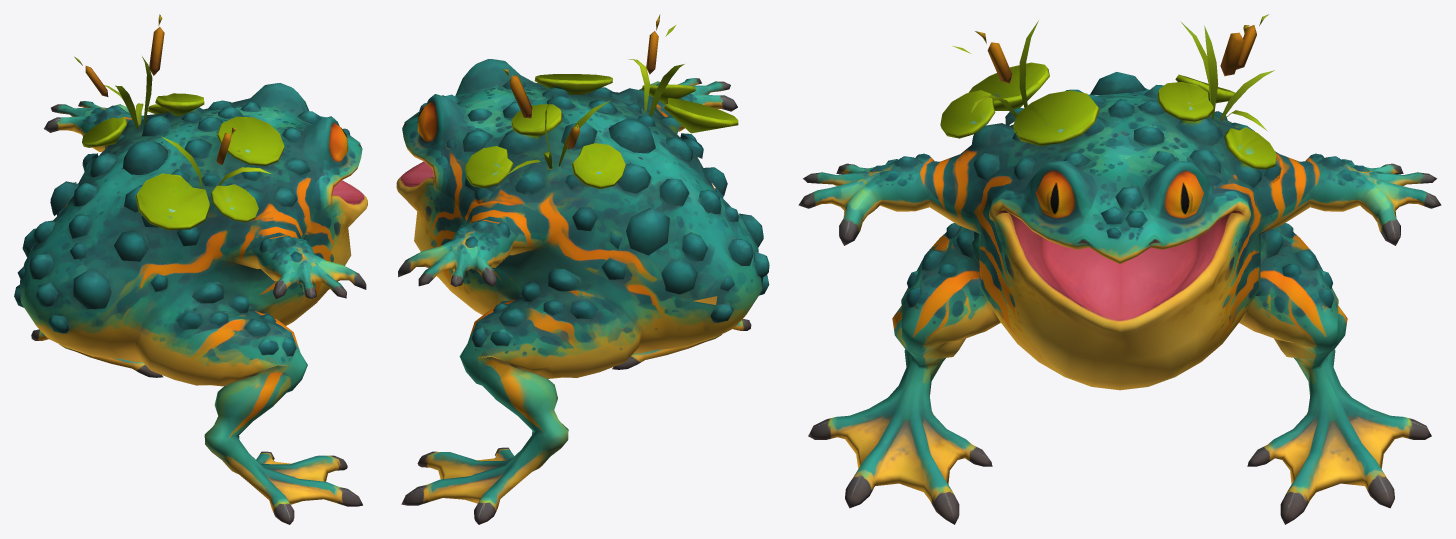
Rendered from generate_model.glb.
3 renders of one model, left to right at view 1: azimuth 30°, elevation 25°; view 2: azimuth 150°, elevation 25°; view 3: azimuth 270°, elevation 25°, orthographic. The views are drawn at different scales.
Parts seen in each view (by area): view 1: tripo_node_05fd4031-6449-45c0-9e84-ca1d9722b219; view 2: tripo_node_05fd4031-6449-45c0-9e84-ca1d9722b219; view 3: tripo_node_05fd4031-6449-45c0-9e84-ca1d9722b219.
Boxes of the visible parts, box(x1,y1,x2,y2) form: tripo_node_05fd4031-6449-45c0-9e84-ca1d9722b219: box(14, 14, 367, 524); tripo_node_05fd4031-6449-45c0-9e84-ca1d9722b219: box(396, 14, 769, 524); tripo_node_05fd4031-6449-45c0-9e84-ca1d9722b219: box(798, 14, 1441, 524).
Bounding box in the file's own units: 0.73 × 0.7915 × 0.9995.
1 material, 1 textured.
